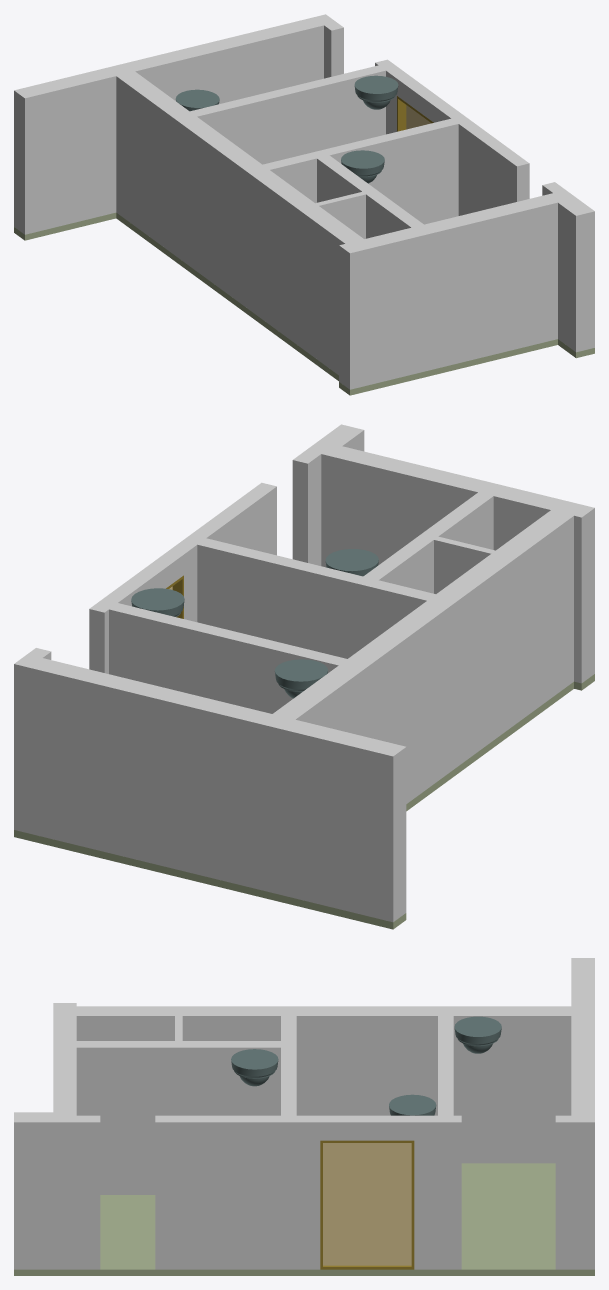
The picture shows the model from 3 angles, top to bottom: view 1: azimuth 30°, elevation 25°; view 2: azimuth 150°, elevation 25°; view 3: azimuth 270°, elevation 25°; orthographic projection. The views are drawn at different scales.
Visible parts, largest first — view 1: wall, ground, 02camera2, 02camera3, 02camera1; view 2: wall, ground, 02camera1, 02camera2, 02camera3; view 3: wall, ground, menkuang, door, 02camera1, 02camera3, 02camera2.
Boxes of the visible parts, left/top/right/bottom form: wall: left=14, top=14, right=594, bottom=389; ground: left=14, top=212, right=594, bottom=395; 02camera2: left=354, top=75, right=398, bottom=109; 02camera3: left=341, top=150, right=384, bottom=183; 02camera1: left=175, top=89, right=219, bottom=111; wall: left=14, top=424, right=594, bottom=922; ground: left=14, top=674, right=594, bottom=929; 02camera1: left=274, top=659, right=327, bottom=698; 02camera2: left=131, top=588, right=184, bottom=616; 02camera3: left=325, top=549, right=378, bottom=576; wall: left=14, top=958, right=594, bottom=1269; ground: left=14, top=1163, right=594, bottom=1275; menkuang: left=323, top=1143, right=411, bottom=1265; door: left=320, top=1140, right=414, bottom=1269; 02camera1: left=454, top=1016, right=501, bottom=1053; 02camera3: left=231, top=1049, right=278, bottom=1086; 02camera2: left=389, top=1094, right=436, bottom=1115.
Bounding box in the file's own units: 4.95 × 2.16 × 7.4.
